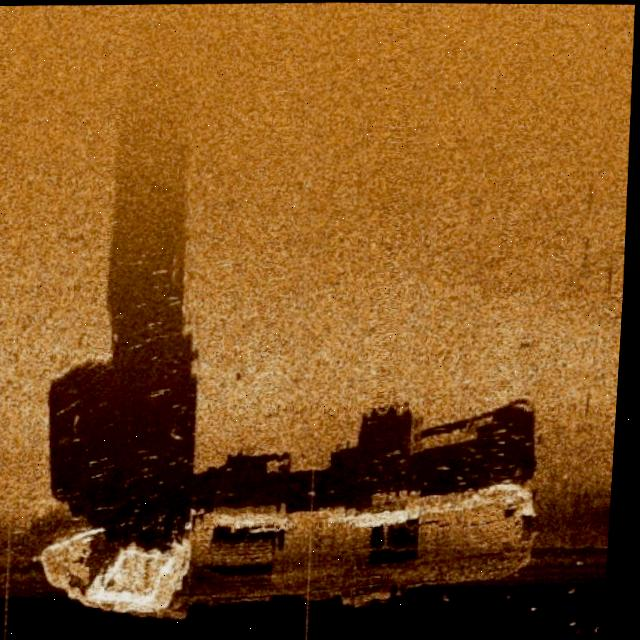shipwreck: (25, 474, 548, 622)
